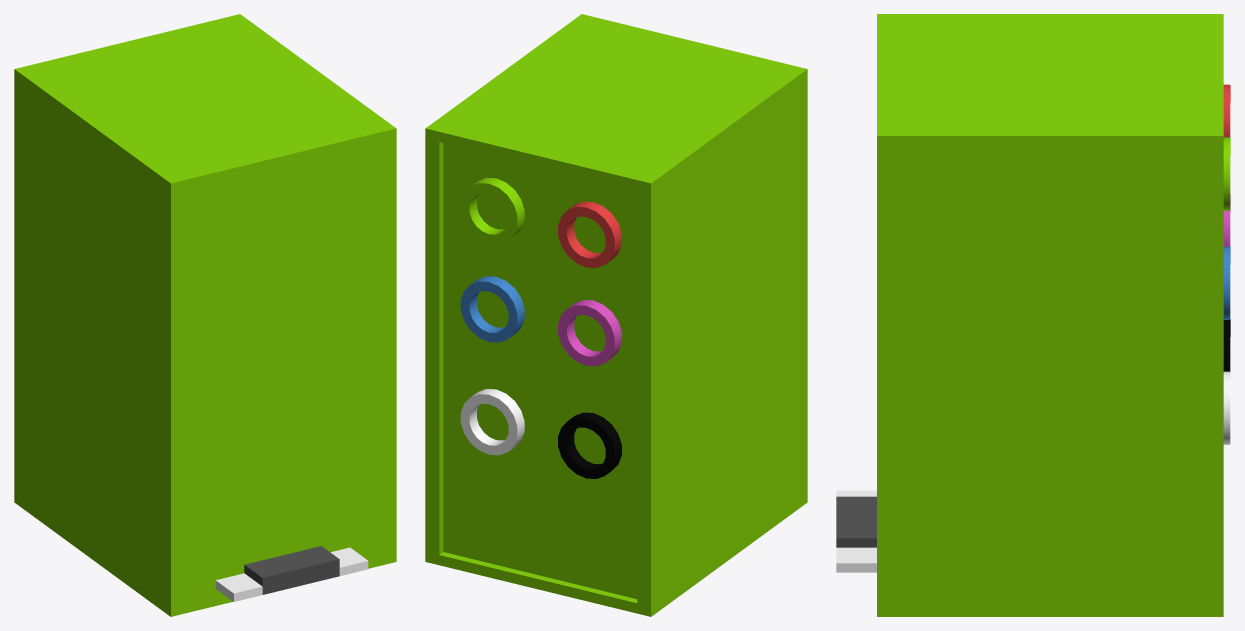
3 views of the same model, side by side, from view 1: azimuth 30°, elevation 25°; view 2: azimuth 150°, elevation 25°; view 3: azimuth 270°, elevation 25° (orthographic). The views are drawn at different scales.
Parts seen in each view (by area): view 1: IO_4; view 2: IO_4; view 3: IO_4.
Boxes of the visible parts, <box> form: IO_4: <box>14,14,396,616</box>; IO_4: <box>425,14,807,616</box>; IO_4: <box>836,14,1230,616</box>.
Size of the model in its own units: 1042 by 1912 by 1420.
